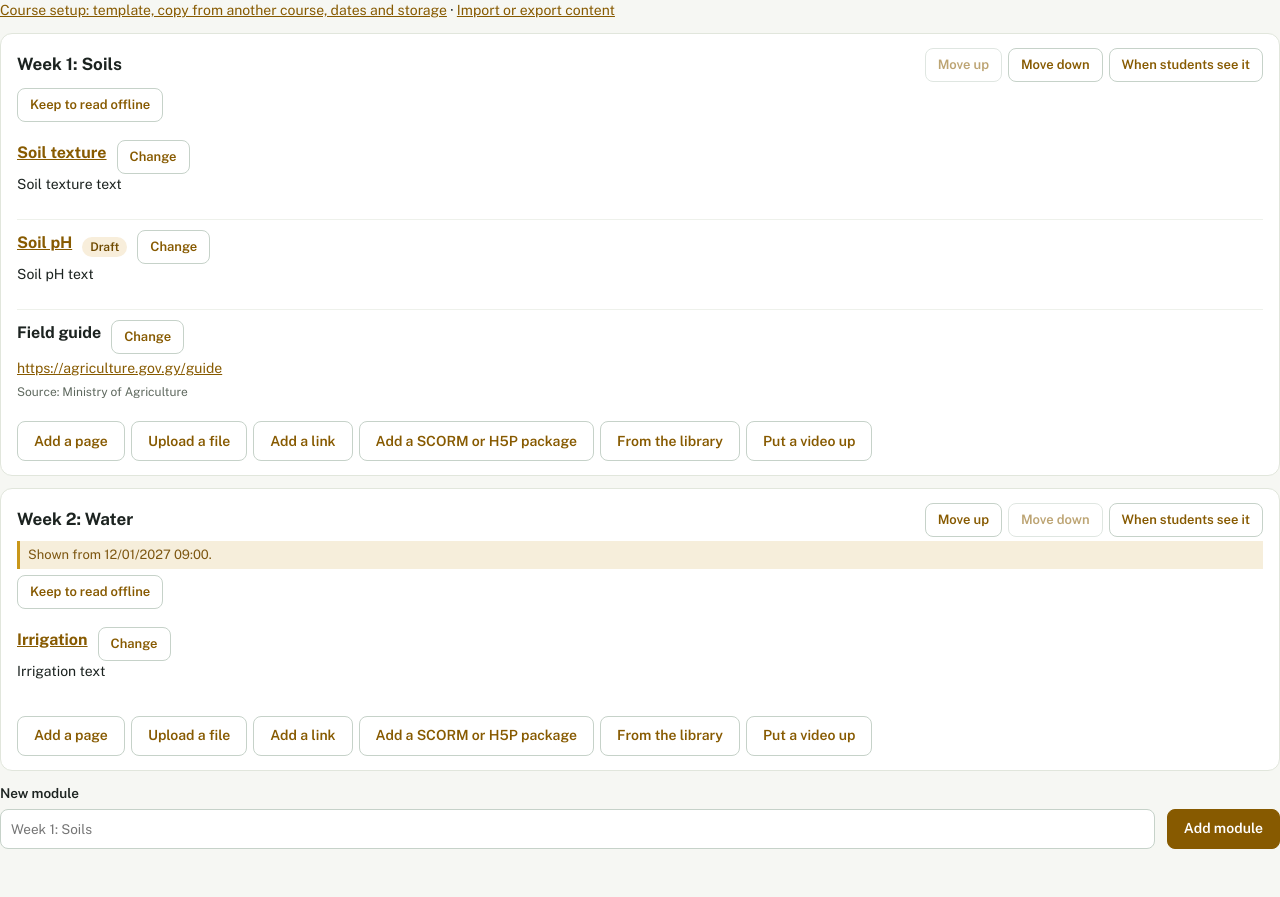
Test: the Content tab for teaching staff (items 2.15 and 2.16) › shows why a change was refused
Step 1. Click the button with aria-label "Change “Soil pH”" → (174,247), box [137,230,210,264]
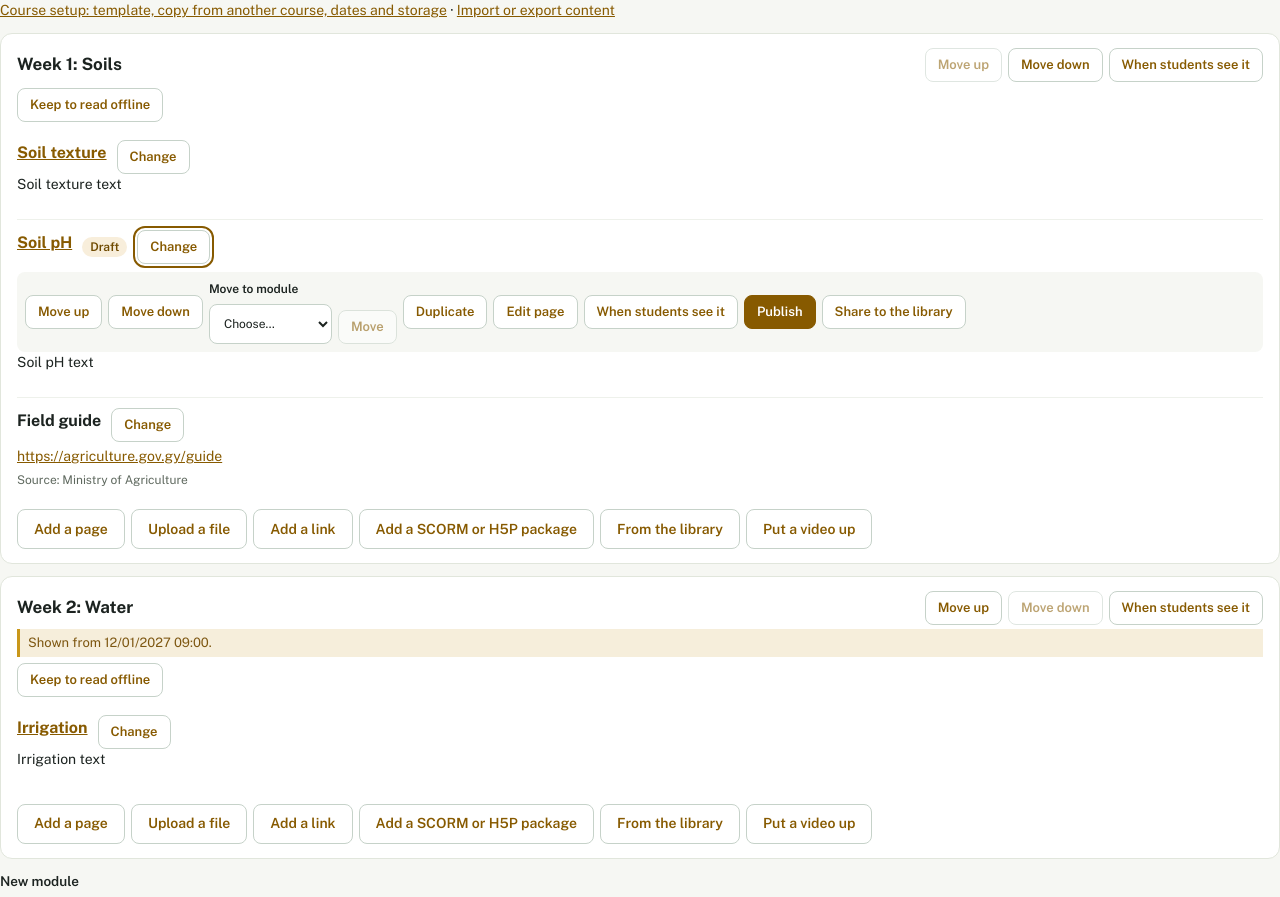
Step 2. Click the button "Publish" → (780,312), box [744,295,816,329]
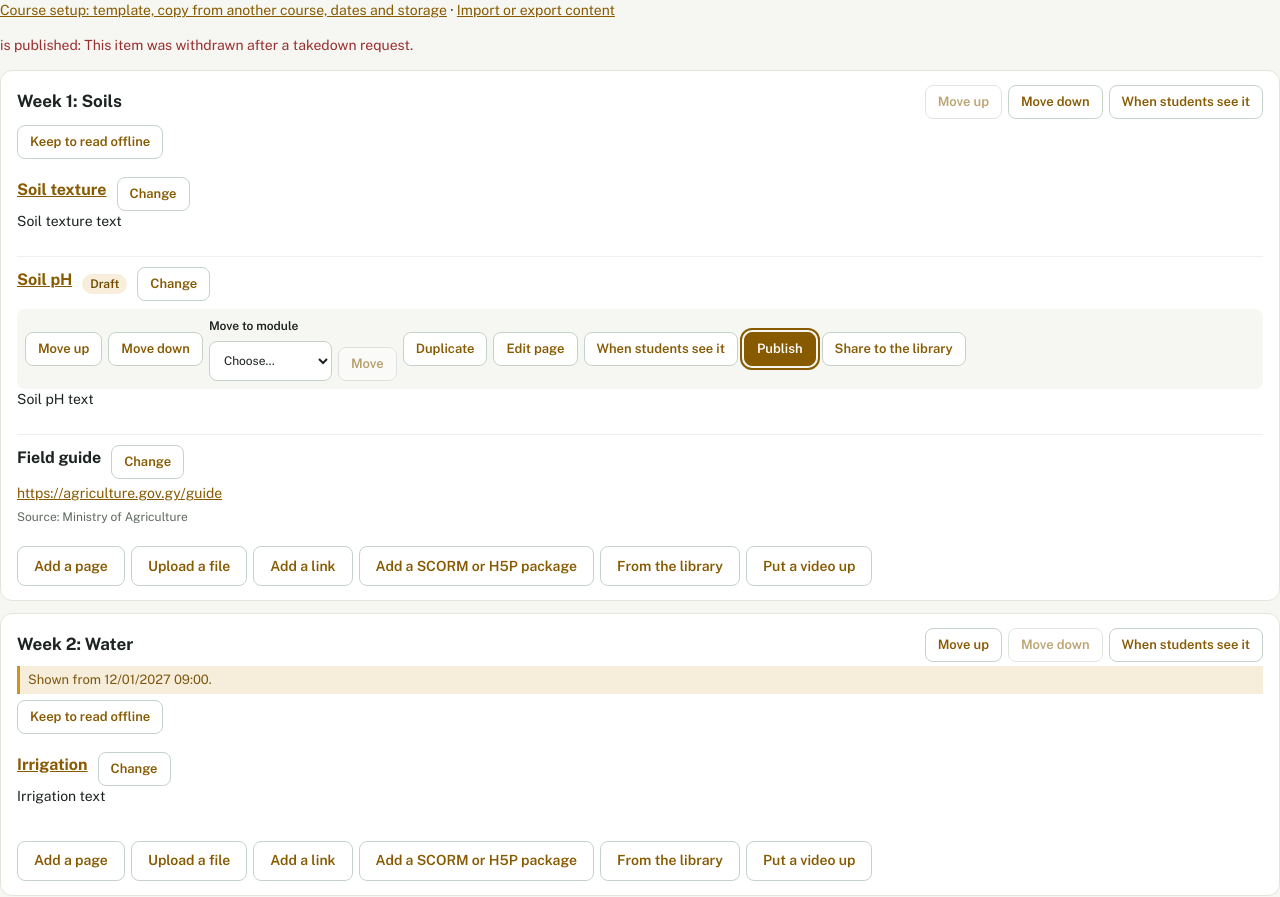
Expected: the message shows "withdrawn after a takedown request", [0,37,413,53]
